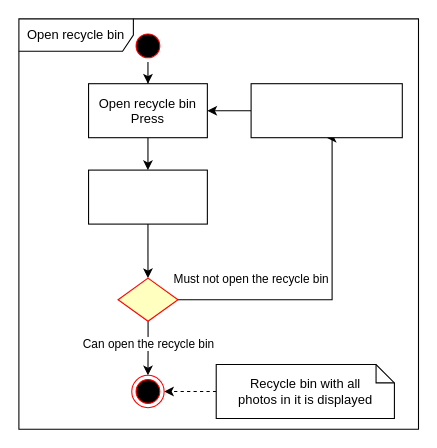
This 437x448 diagram has some shape labels left out. The shapes that lost their labels are listed below. From the top down, each one's box as (x1, y1, x2, y2) in pixels, then its label:
(250, 83, 402, 138): Show error message
(87, 169, 207, 224): Validate token/user
